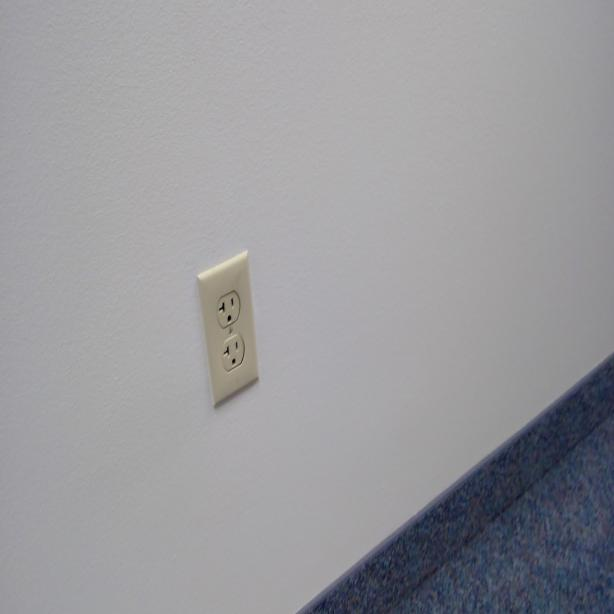typeb: (220, 334, 244, 372), (216, 291, 240, 324)
